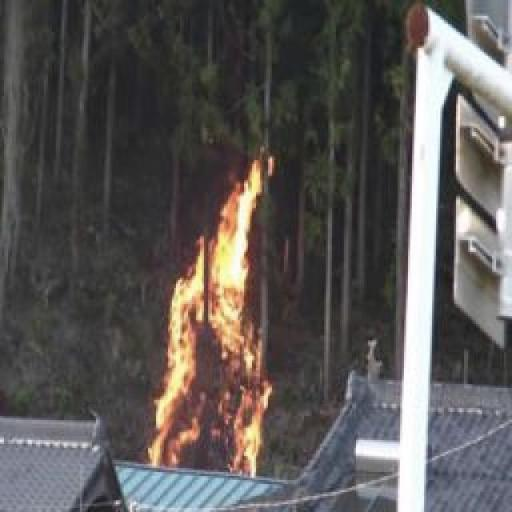smoke: (153, 155, 274, 475)
